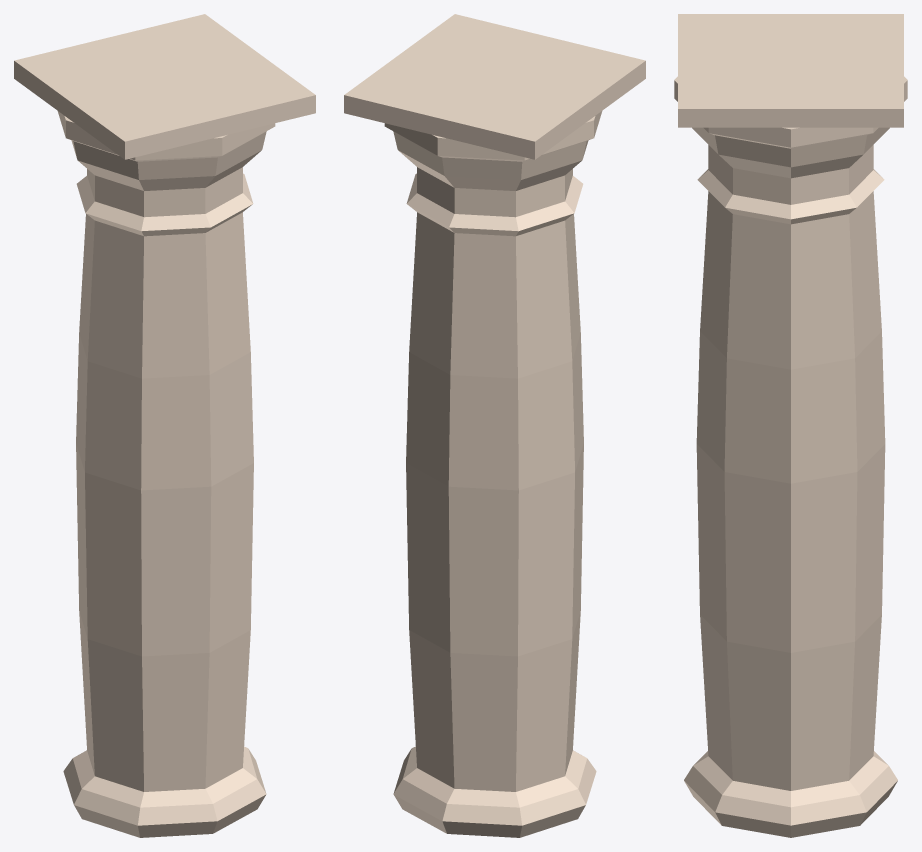
File: empire-pillar-tuscan-small-empire.glb
The picture shows the model from 3 angles, left to right: view 1: azimuth 30°, elevation 25°; view 2: azimuth 150°, elevation 25°; view 3: azimuth 270°, elevation 25°; orthographic projection.
Visible parts, largest first — view 1: SM_Pillar_Tuscan_Small_Empire; view 2: SM_Pillar_Tuscan_Small_Empire; view 3: SM_Pillar_Tuscan_Small_Empire.
Part boxes in pixels (x1=…): SM_Pillar_Tuscan_Small_Empire: x1=14, y1=14, x2=315, y2=837; SM_Pillar_Tuscan_Small_Empire: x1=344, y1=14, x2=645, y2=837; SM_Pillar_Tuscan_Small_Empire: x1=674, y1=14, x2=907, y2=837.
Bounding box in the file's own units: 0.8633 × 3 × 0.8633.
